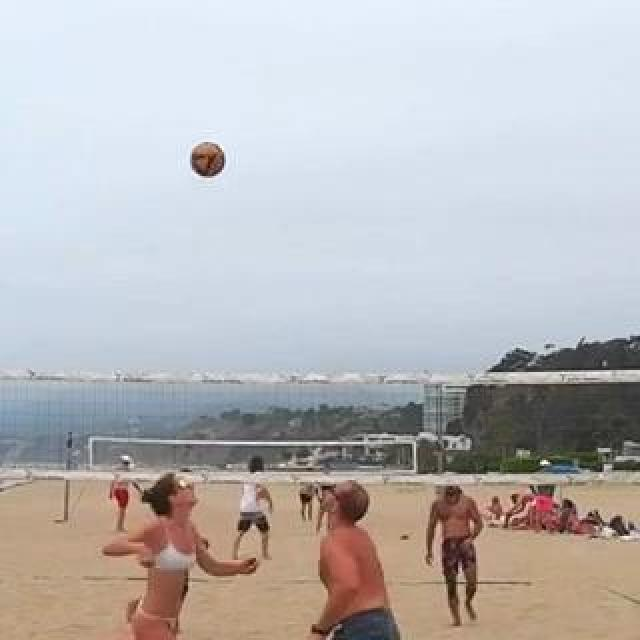volleyball: (190, 142, 226, 178), (400, 530, 410, 542)
